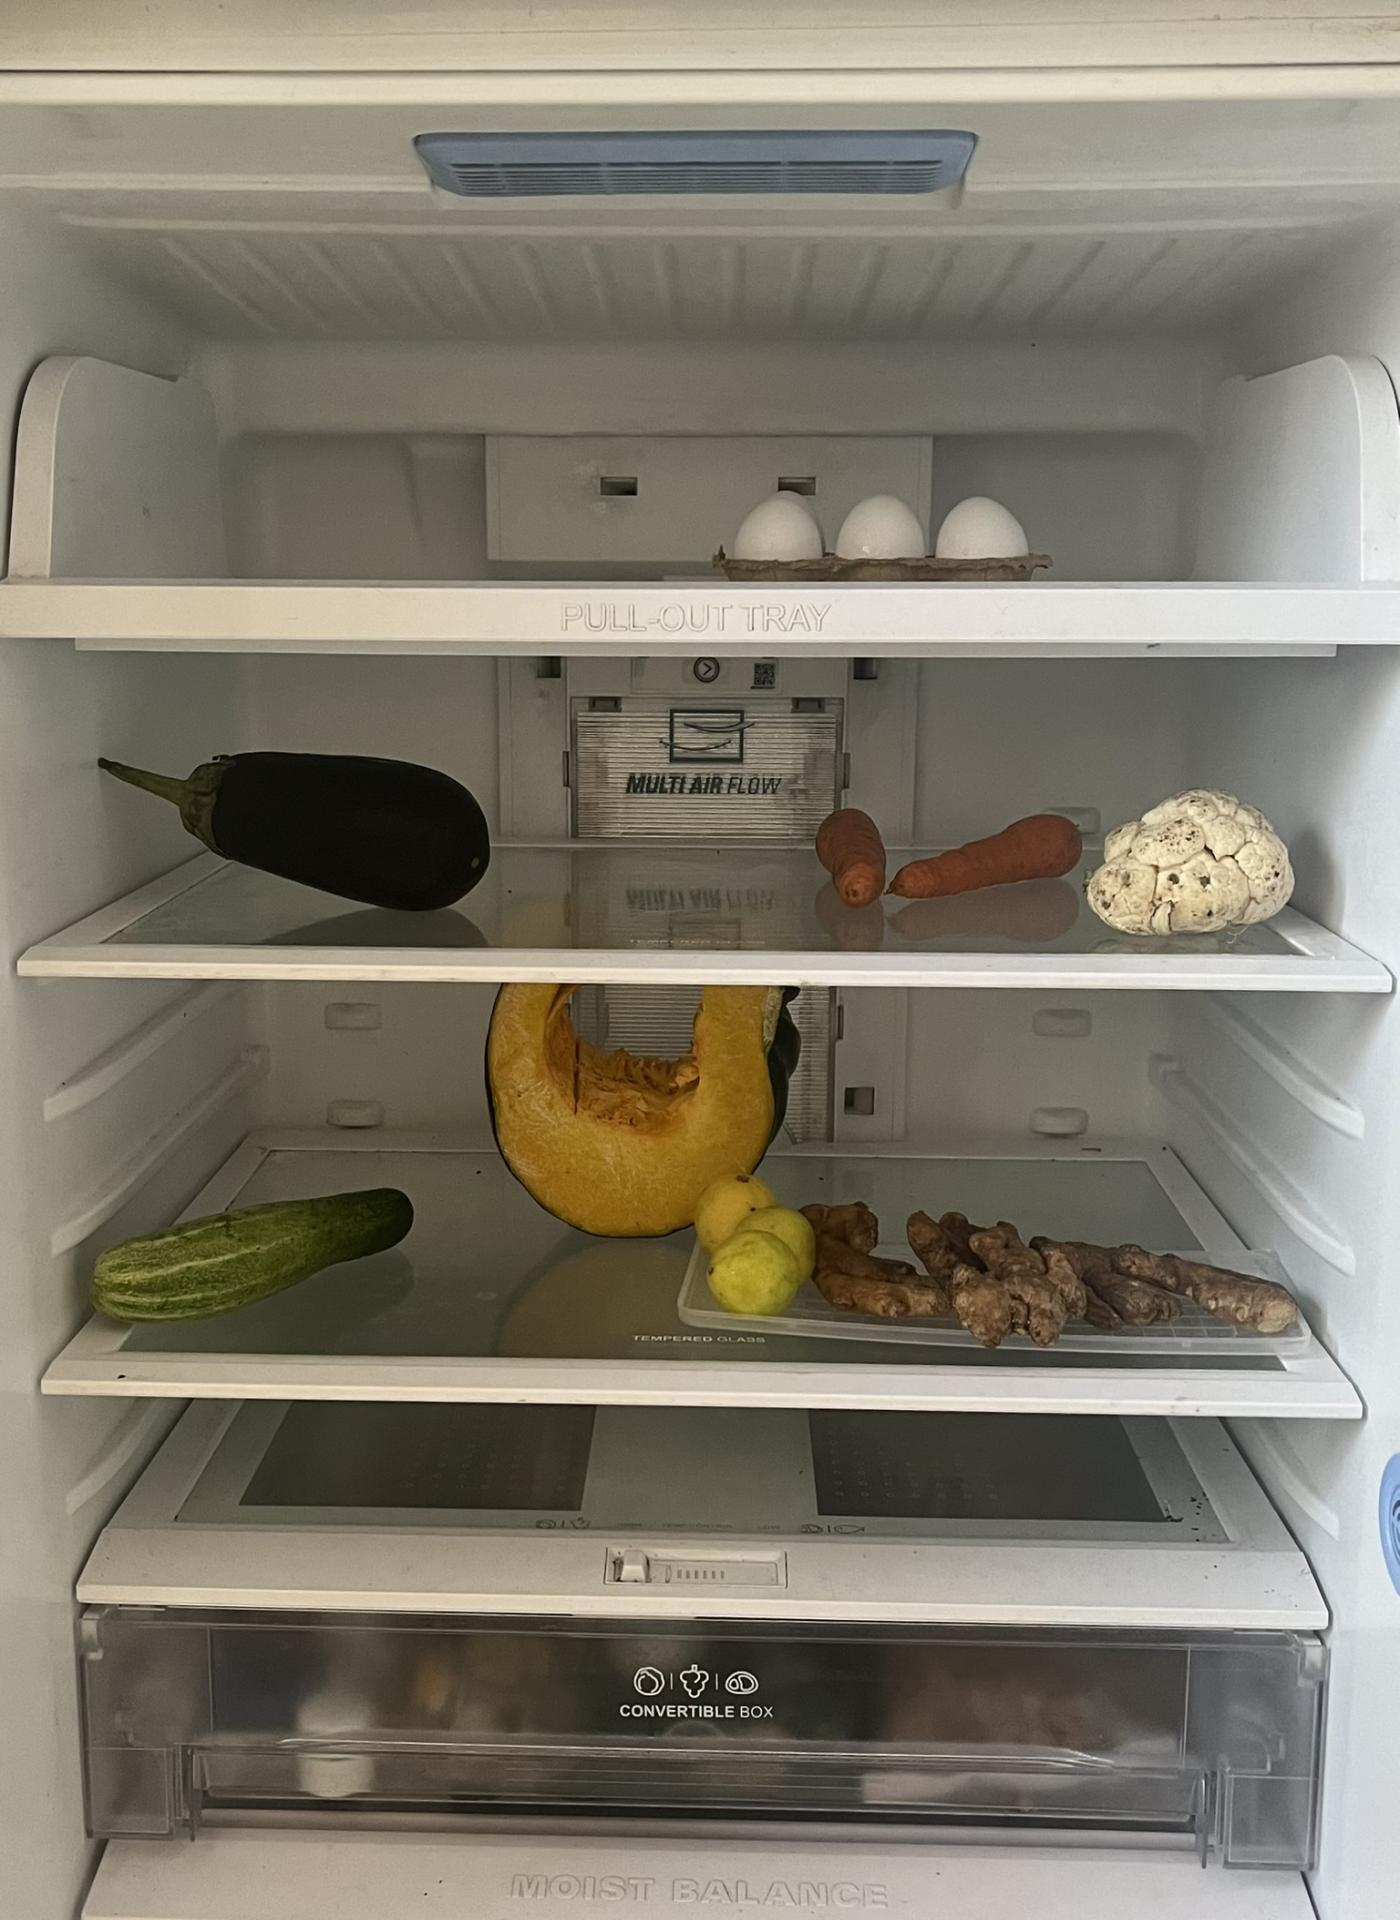carrots: (896, 803, 1094, 891), (811, 800, 893, 906)
cauliflower: (1084, 778, 1309, 938)
cucumber: (88, 1172, 419, 1325)
egg: (729, 481, 1057, 578)
ginger: (817, 1200, 1303, 1340)
lemon: (702, 1163, 817, 1315)
pumpkin: (480, 978, 793, 1240)
